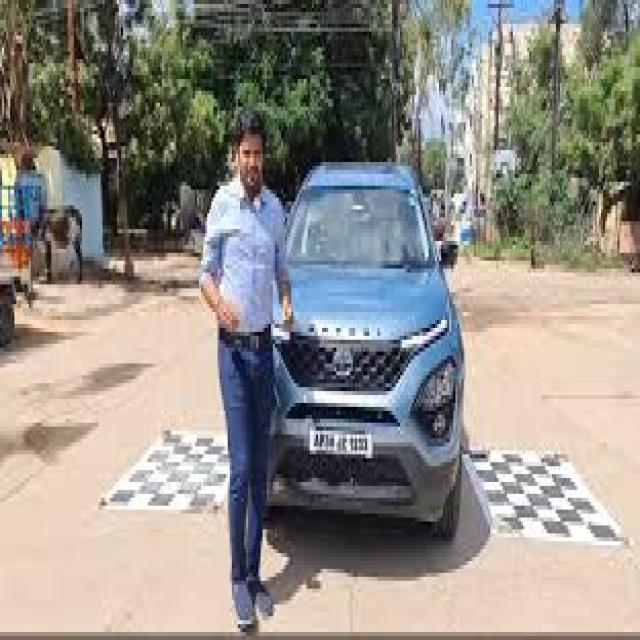Car: (269, 164, 464, 538)
